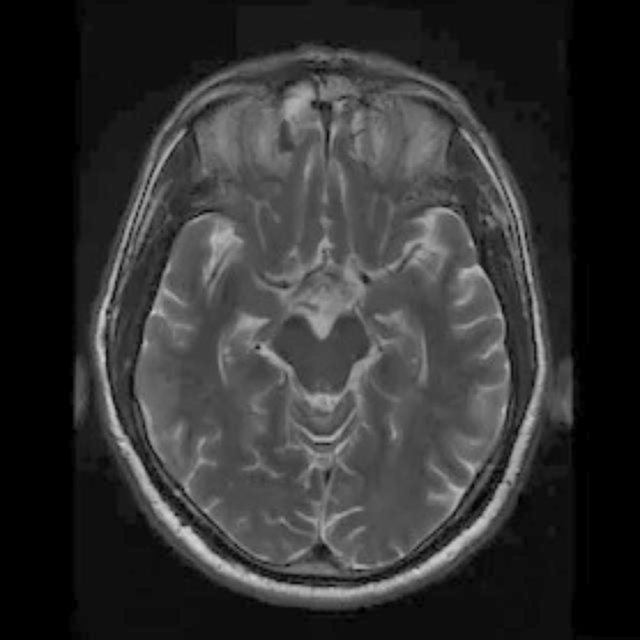glioma tumor: (157, 142, 474, 536)
